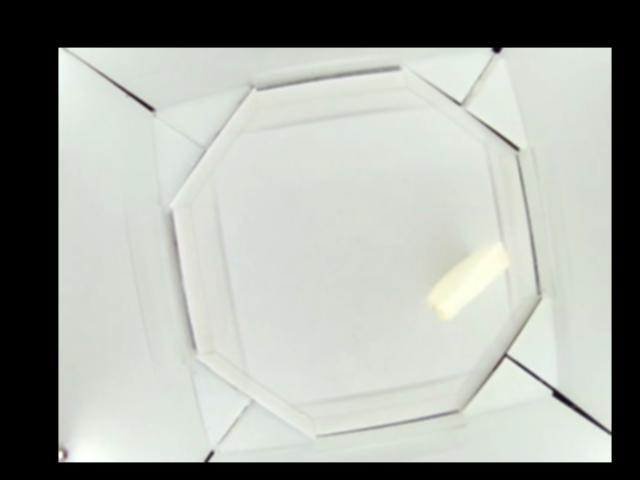Mooli: (427, 240, 513, 318)
